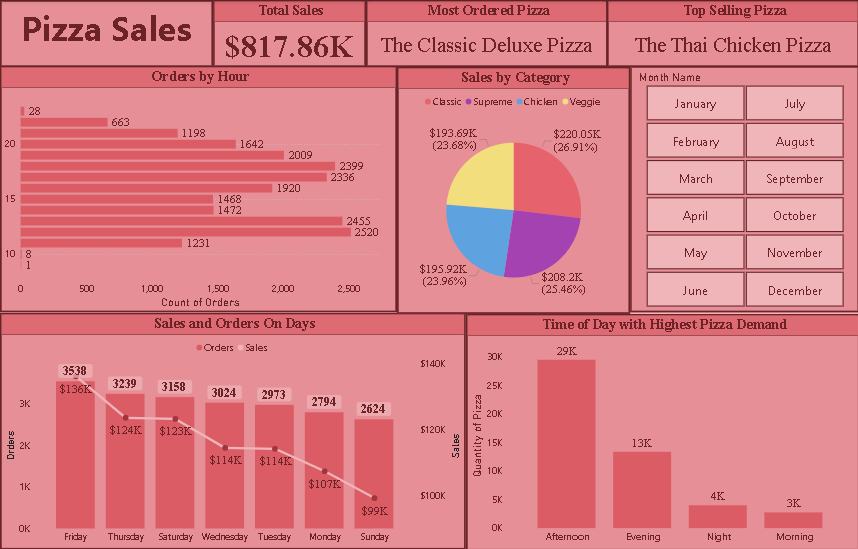

Layout of this report page (visuals, bound fields, positions):
{"tool":"powerbi","page":{"name":"Pizza Sales","canvas":[1500,960],"ordinal":0},"visuals":[{"type":"card","title":"Total Sales","fields":{"Values":["Sum(order_details.Sales)"]},"box":[371.7,0,266.7,116.7],"z":0},{"type":"card","title":"Most Ordered Pizza","fields":{"Values":["order_details.Most_ordered_pizza"]},"box":[638.3,0,421.7,116.7],"z":1000},{"type":"card","title":"Top Selling Pizza","fields":{"Values":["order_details.highest_selling_pizza"]},"box":[1060,0,440,116.7],"z":2000},{"type":"textbox","box":[0,0,371.7,116.7],"z":3000},{"type":"lineClusteredColumnComboChart","title":"Sales and Orders On Days","fields":{"Category":["orders.Day Name"],"Y":["Count(orders.order_id)"],"Y2":["Sum(order_details.Sales)"]},"box":[0,546.6,813.1,413.4],"z":4000},{"type":"barChart","title":"Orders by Hour","fields":{"Category":["orders.Hour"],"Y":["Count(orders.order_id)"]},"box":[0,116.1,692.9,430.4],"z":5000},{"type":"slicer","fields":{"Values":["orders.Month Name"]},"box":[1100,116.1,400,430.4],"z":6000},{"type":"pieChart","title":"Sales by Category","fields":{"Category":["pizza_types.category"],"Y":["Sum(order_details.Sales)"]},"box":[692.7,116.4,407.3,430.9],"z":7000},{"type":"clusteredColumnChart","title":"Time of Day with Highest Pizza Demand","fields":{"Category":["orders.Time of Day"],"Y":["Sum(order_details.quantity)"]},"box":[812.7,547.3,687.3,412.7],"z":8000}]}

Visuals, with their boxes in screenshot pixels (x1, y1, x2, y2), scaled from the page's 1500x960 canvas onto the 858x549 screenshot:
"Total Sales" card: [213,0,365,67]
"Most Ordered Pizza" card: [365,0,606,67]
"Top Selling Pizza" card: [606,0,857,67]
textbox: [0,0,213,67]
"Sales and Orders On Days" lineClusteredColumnComboChart: [0,313,465,548]
"Orders by Hour" barChart: [0,66,396,313]
slicer - orders.Month Name: [629,66,857,313]
"Sales by Category" pieChart: [396,67,629,313]
"Time of Day with Highest Pizza Demand" clusteredColumnChart: [465,313,857,548]
